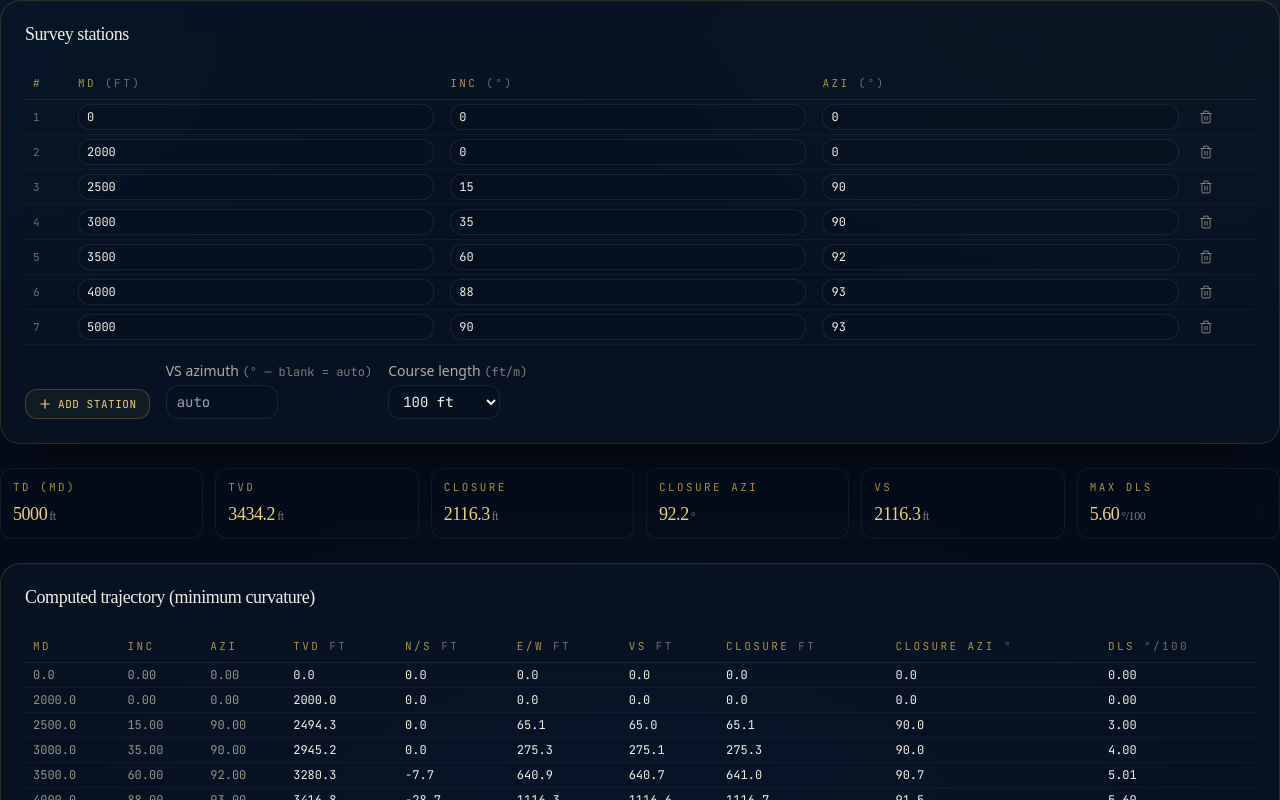
Scenario: DirectionalPanel › adds and removes survey stations
The width and height of the screenshot is (1280, 800).
Click the button "Add station" at (87, 404), box top-left (25, 388), bottom-right (150, 419)
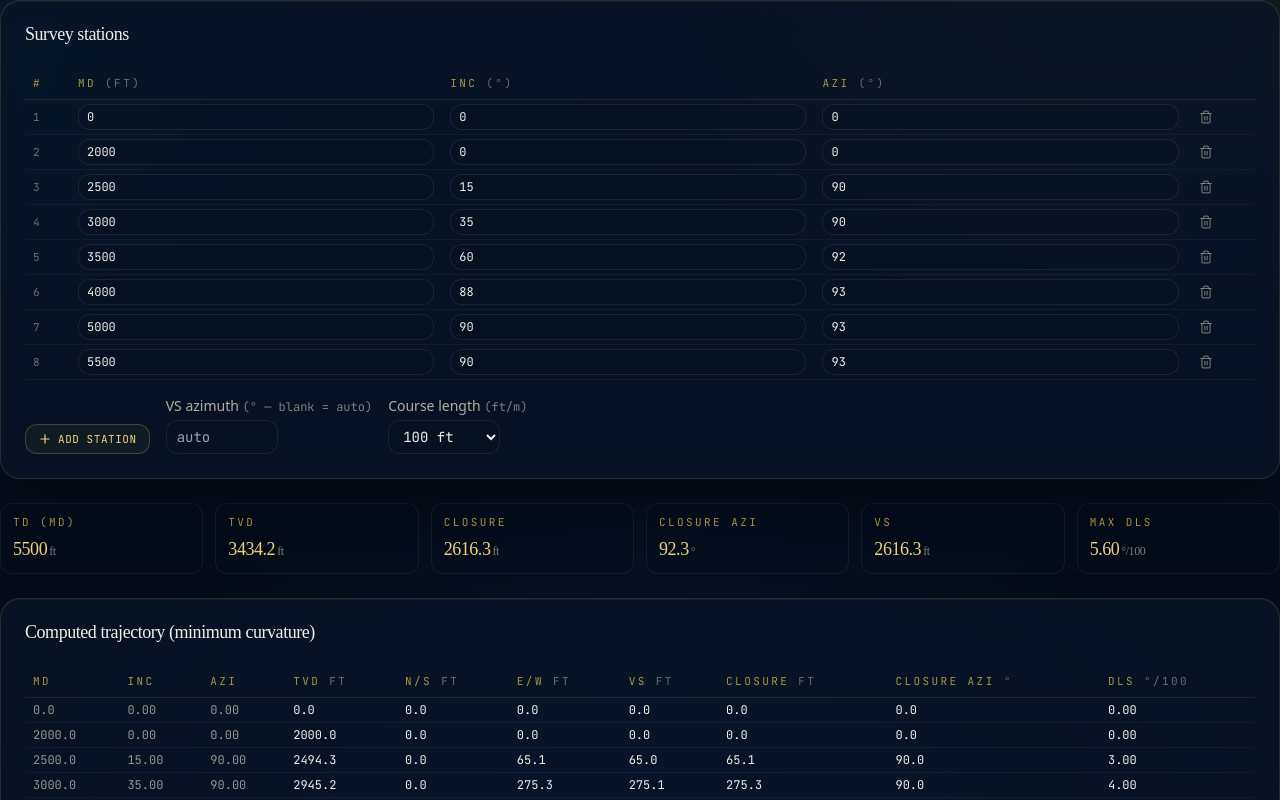
expect the number of rows with test id "traj-row" is 8: met
Click the button named "remove station 1" at (1206, 116), box top-left (1195, 106), bottom-right (1217, 128)
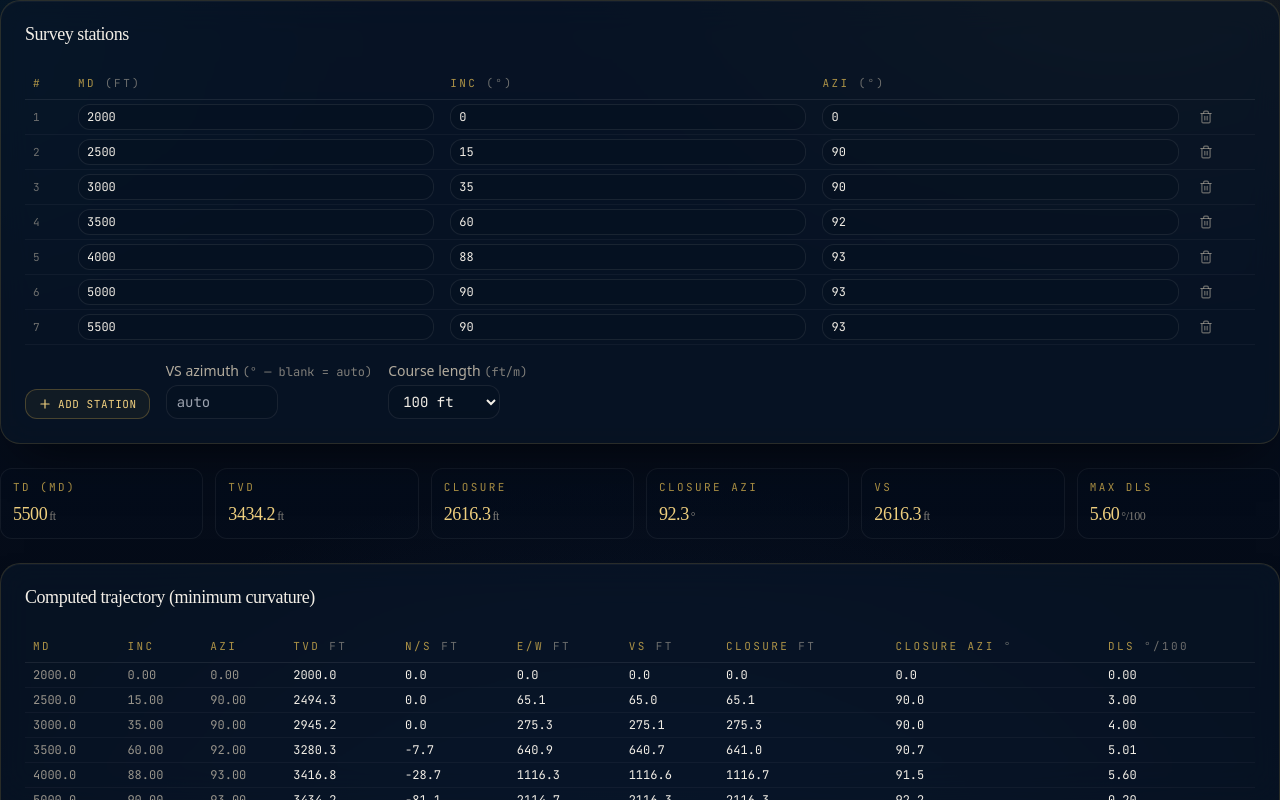
expect the number of rows with test id "traj-row" is 7: met
